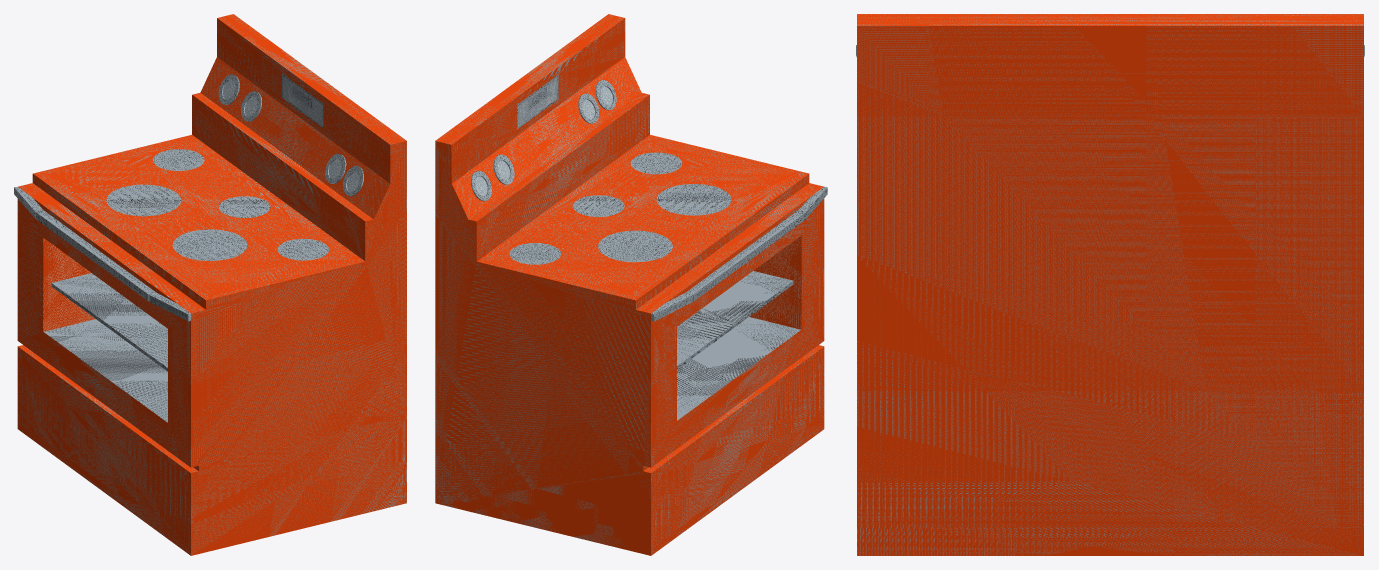
Rendered from stove.fbx.
The picture shows the model from 3 angles, left to right: view 1: azimuth 30°, elevation 25°; view 2: azimuth 150°, elevation 25°; view 3: azimuth 270°, elevation 25°; orthographic projection. The views are drawn at different scales.
Visible parts, largest first — view 1: Model; view 2: Model; view 3: Model.
Part boxes in pixels (box(x1,y1,x2,y2)): Model: box(14, 14, 406, 555); Model: box(435, 14, 827, 555); Model: box(856, 14, 1364, 555).
Size of the model in its own units: 2.03 by 3.08 by 2.68.
